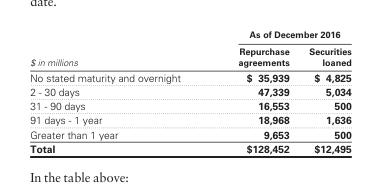table: (29, 29, 350, 154)
table column: (29, 29, 208, 154), (208, 29, 298, 154), (298, 29, 350, 154)
table column header: (29, 29, 350, 68)
table row: (29, 42, 350, 68), (29, 68, 350, 84), (29, 126, 350, 141), (29, 84, 350, 98), (29, 98, 350, 112), (29, 112, 350, 126), (29, 29, 350, 42), (29, 141, 350, 154)
table spanning cell: (29, 29, 208, 68), (208, 29, 350, 42)
